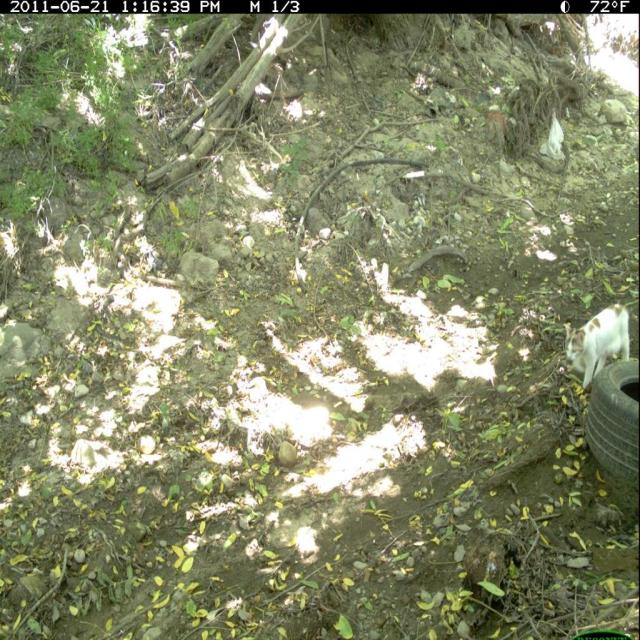cat: (559, 297, 637, 403)
